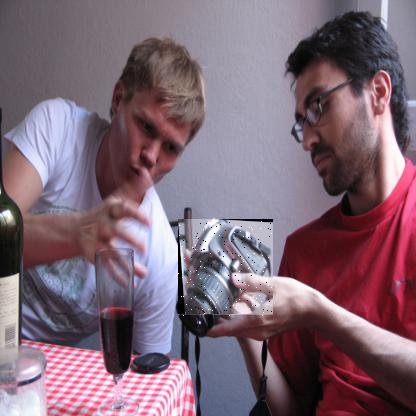Camera: (179, 221, 275, 319)
